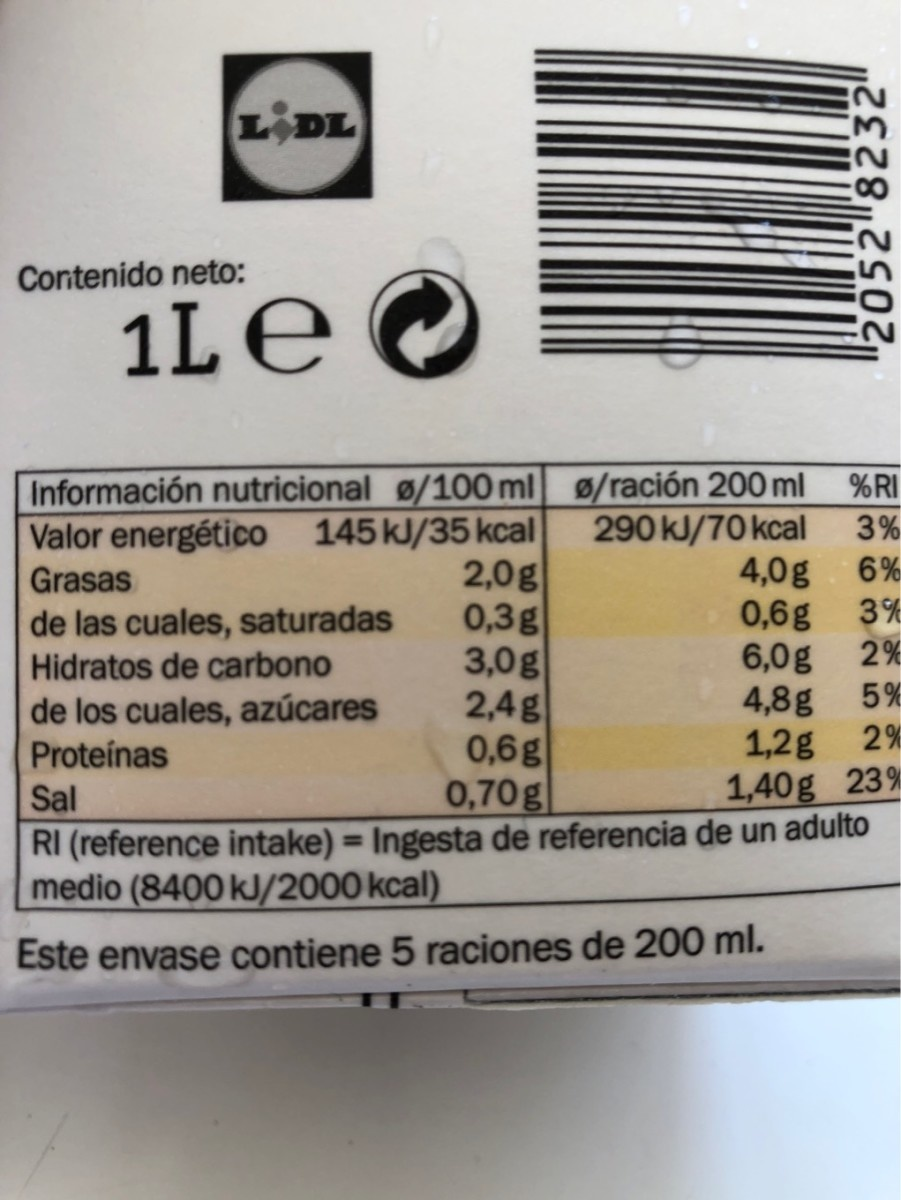column: (23, 478, 542, 816), (565, 474, 823, 802), (842, 471, 900, 807)
table: (15, 469, 900, 823)
